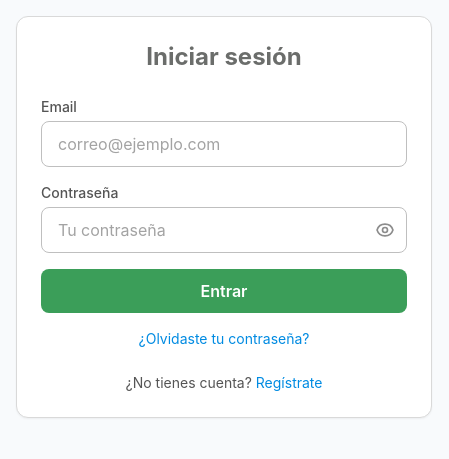
Login › shows email validation error for empty field
Type "pass123" into the password field labelled "Contraseña" at (224, 230), box [41,207,407,253]
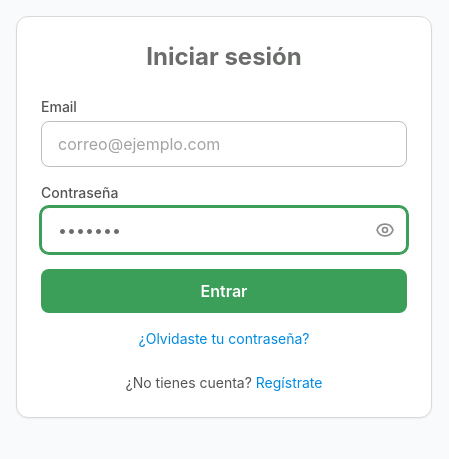
Click the button "Entrar" at (224, 291), box [41,269,407,313]
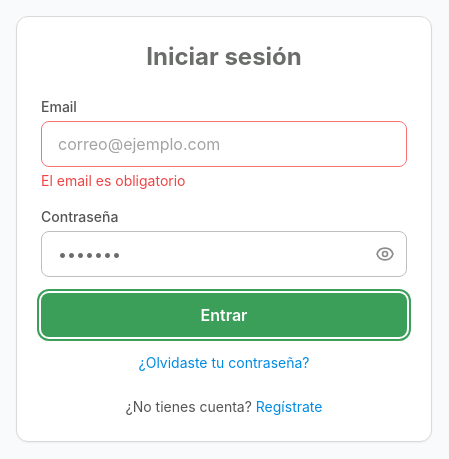
Now the text "El email es obligatorio" is shown, box [41,172,186,189]
